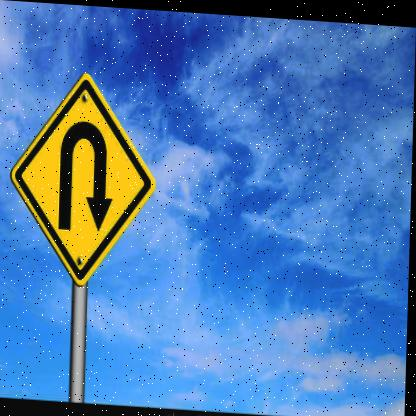U-turn: (10, 66, 156, 287)
